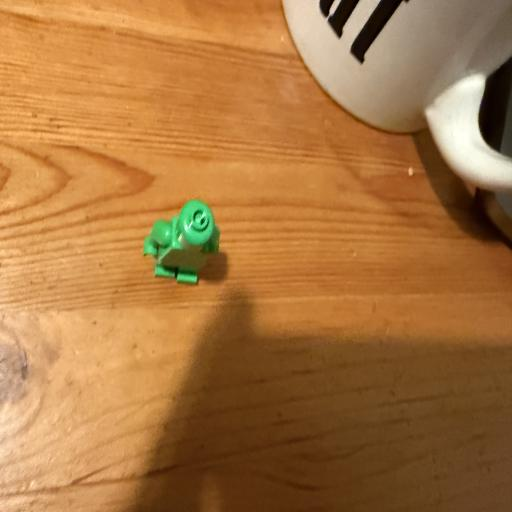Minifig: (143, 200, 220, 284)
